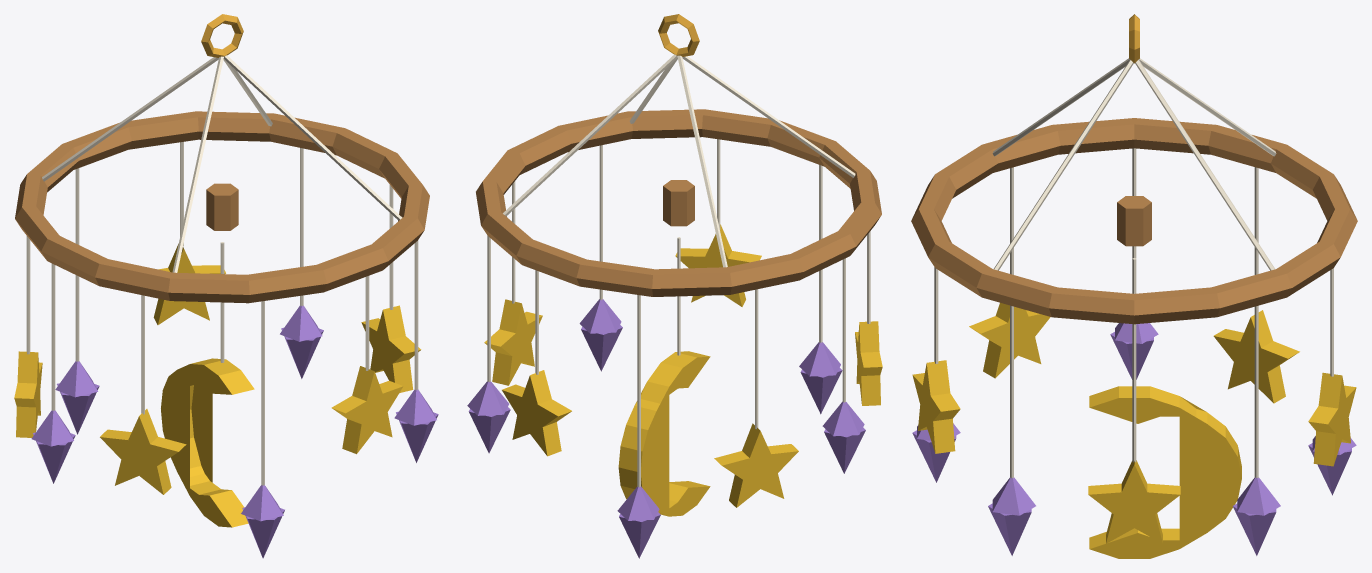
Rendered from star_mobile.glb.
3 renders of one model, left to right at view 1: azimuth 30°, elevation 25°; view 2: azimuth 150°, elevation 25°; view 3: azimuth 270°, elevation 25°, orthographic. The views are drawn at different scales.
Visible parts, largest first — view 1: part_mobile, star_mobile; view 2: part_mobile, star_mobile; view 3: part_mobile.
Part boxes in pixels (x1=…): part_mobile: x1=14, y1=55, x2=438, y2=558; star_mobile: x1=201, y1=14, x2=243, y2=57; part_mobile: x1=467, y1=54, x2=882, y2=558; star_mobile: x1=658, y1=14, x2=699, y2=56; part_mobile: x1=911, y1=58, x2=1357, y2=558.
Size of the model in its own units: 0.6553 by 0.856 by 0.644.
